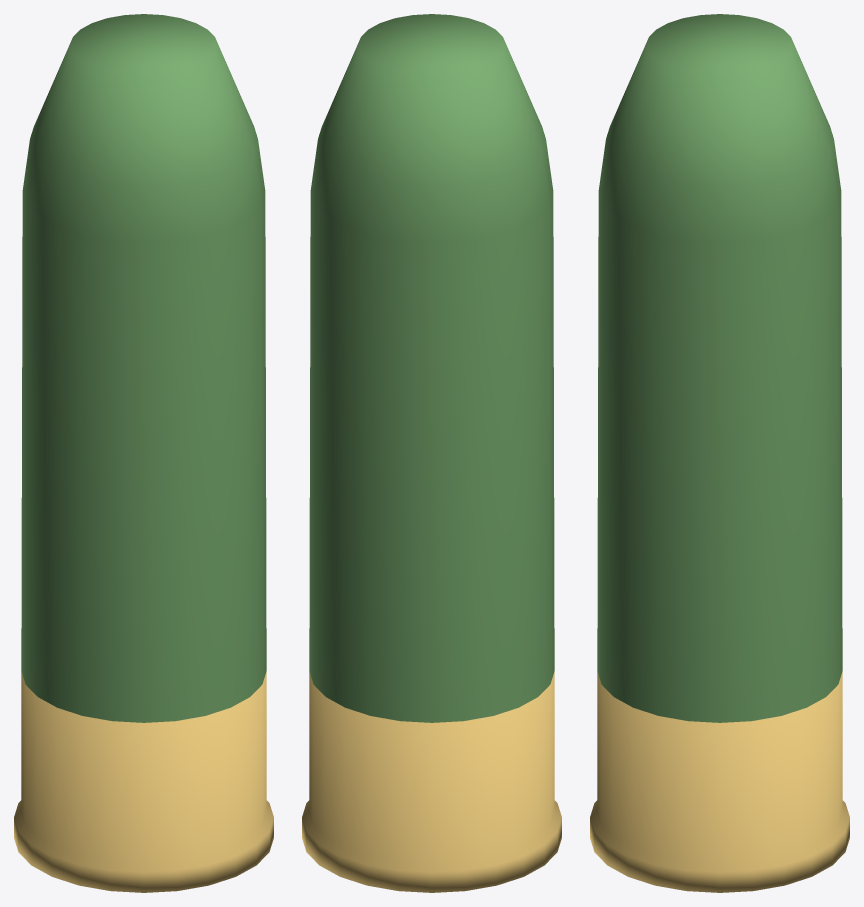
The picture shows the model from 3 angles, left to right: view 1: azimuth 30°, elevation 25°; view 2: azimuth 150°, elevation 25°; view 3: azimuth 270°, elevation 25°; orthographic projection.
Visible parts, largest first — view 1: cuerpo, culote; view 2: cuerpo, culote; view 3: cuerpo, culote.
Part boxes in pixels (left/top/right/bottom): cuerpo: left=21, top=14, right=266, bottom=722; culote: left=14, top=671, right=273, bottom=892; cuerpo: left=309, top=14, right=554, bottom=722; culote: left=302, top=671, right=561, bottom=892; cuerpo: left=597, top=14, right=842, bottom=722; culote: left=590, top=671, right=849, bottom=892.
Size of the model in its own units: 0.0226 by 0.076 by 0.0226.
